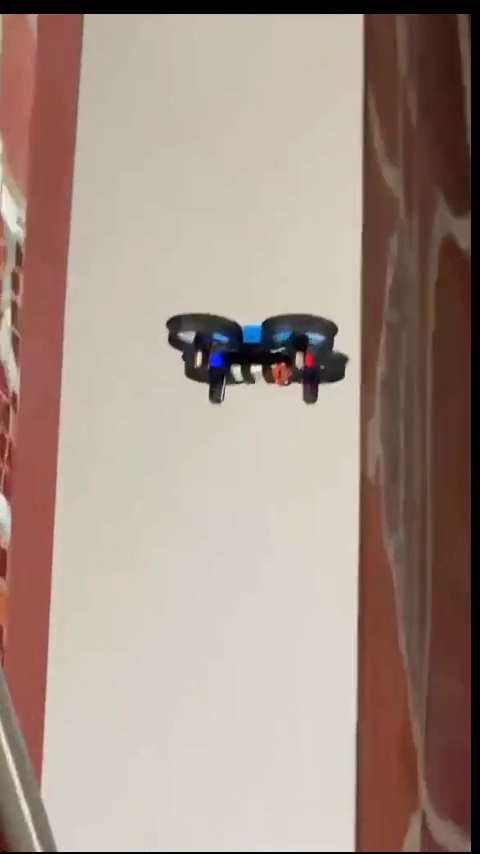drone: (169, 316, 348, 400)
